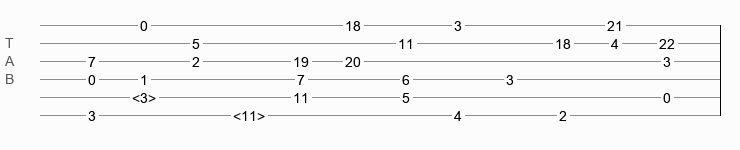0: (88, 72, 96, 82), (140, 18, 148, 28), (663, 90, 671, 100)
1: (140, 72, 148, 82)
11: (293, 90, 309, 100), (398, 36, 414, 46)
18: (345, 18, 361, 28), (555, 36, 571, 46)
19: (293, 54, 309, 64)
2: (192, 54, 200, 64), (559, 108, 567, 118)
20: (345, 54, 361, 64)
21: (607, 18, 623, 28)
22: (659, 36, 675, 46)
3: (88, 108, 96, 118), (454, 18, 462, 28), (506, 72, 514, 82), (663, 54, 671, 64)
4: (454, 108, 462, 118), (611, 36, 619, 46)
5: (192, 36, 200, 46), (402, 90, 410, 100)
6: (402, 72, 410, 82)
7: (88, 54, 96, 64), (297, 72, 305, 82)
harmonic: (233, 108, 265, 118), (132, 90, 156, 100)
